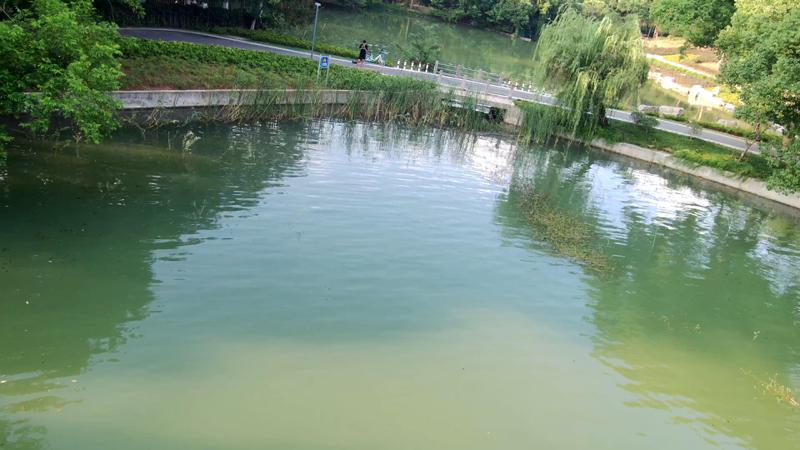passerby: (356, 36, 369, 70)
